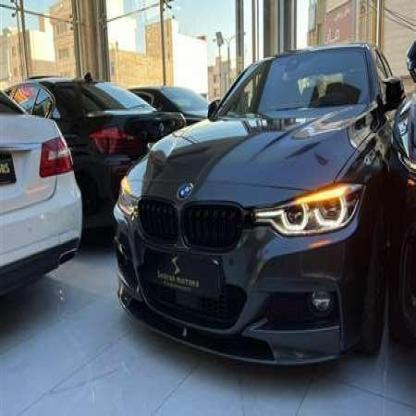Car: (118, 33, 402, 395), (16, 73, 160, 215), (0, 82, 86, 306)
